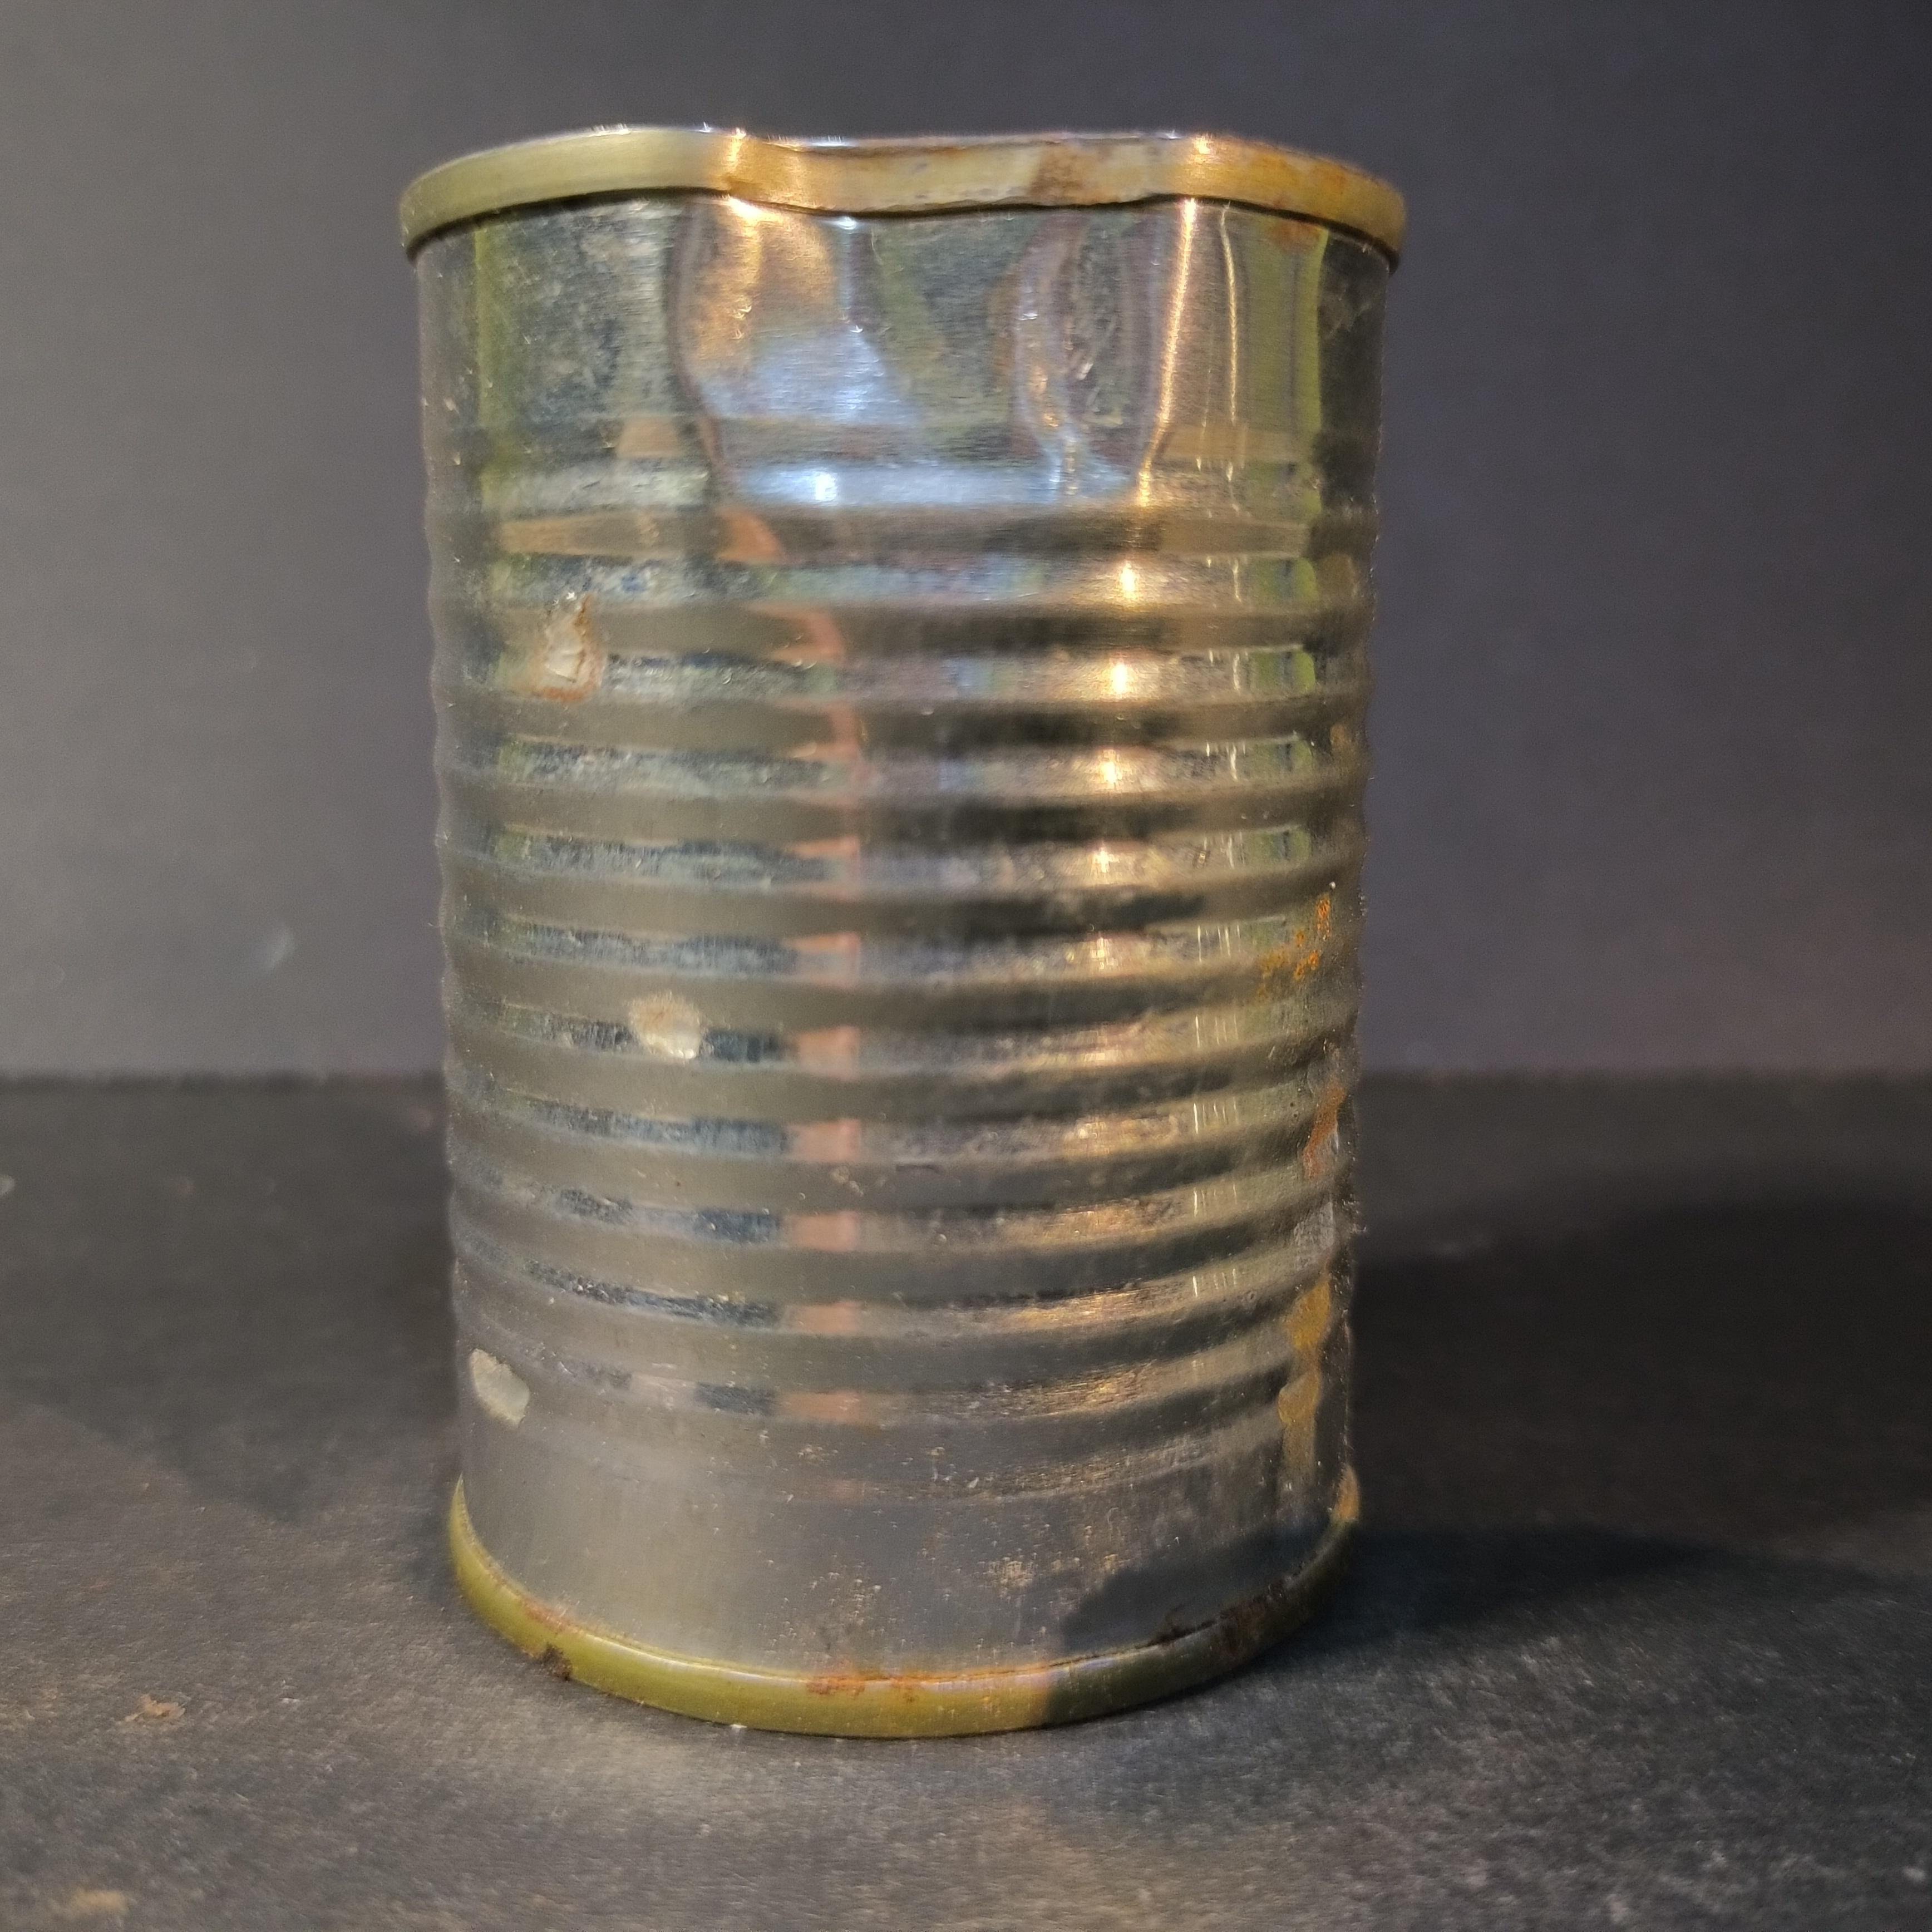Dented: (368, 78, 1438, 1769)
